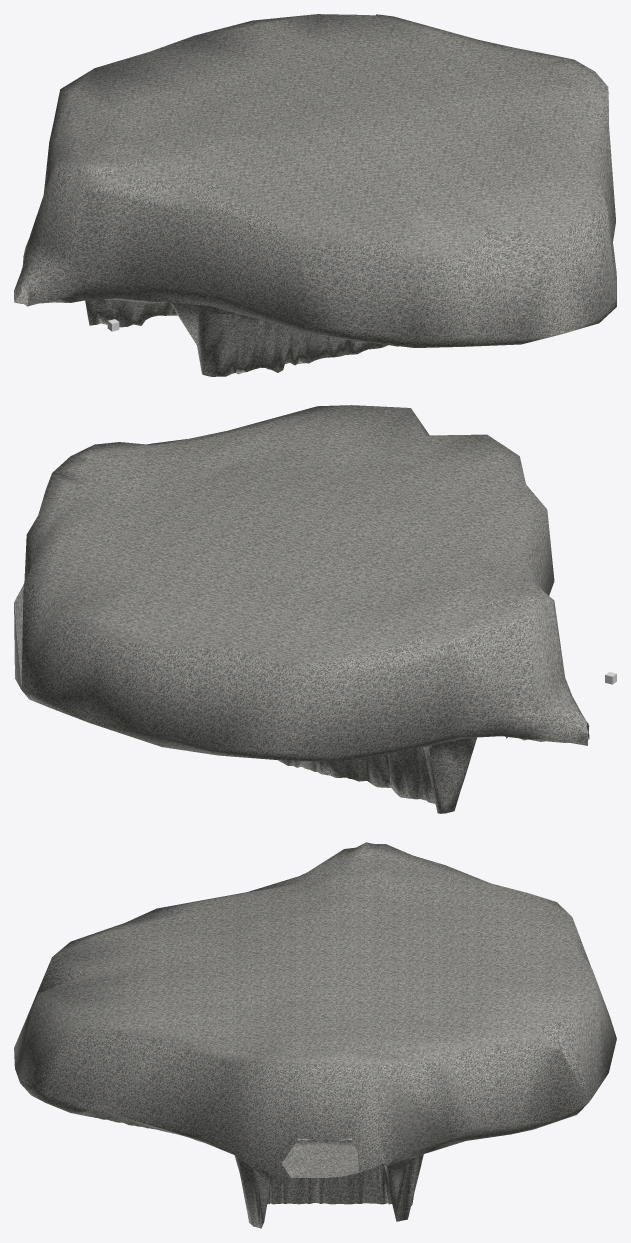
The model's file is Big Cave with Plank Walk 01.FBX.
3 renders of one model, top to bottom at view 1: azimuth 30°, elevation 25°; view 2: azimuth 150°, elevation 25°; view 3: azimuth 270°, elevation 25°, orthographic. The views are drawn at different scales.
Visible parts, largest first — view 1: Big cave walls, Big cave floor first half; view 2: Big cave walls, Big cave floor first half; view 3: Big cave walls, Big cave floor second half.
Part boxes in pixels (x1,y1,x2,y2): Big cave walls: (14, 14, 616, 347); Big cave floor first half: (14, 286, 398, 376); Big cave walls: (14, 405, 589, 762); Big cave floor first half: (277, 735, 589, 813); Big cave walls: (14, 842, 616, 1173); Big cave floor second half: (71, 1110, 450, 1228).
Size of the model in its own units: 132619 by 48591 by 137892.
